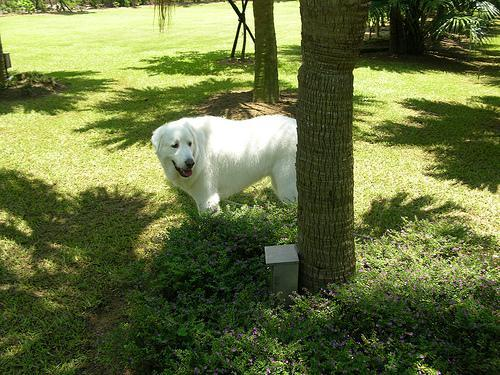Great_Pyrenees: (149, 113, 298, 218)
